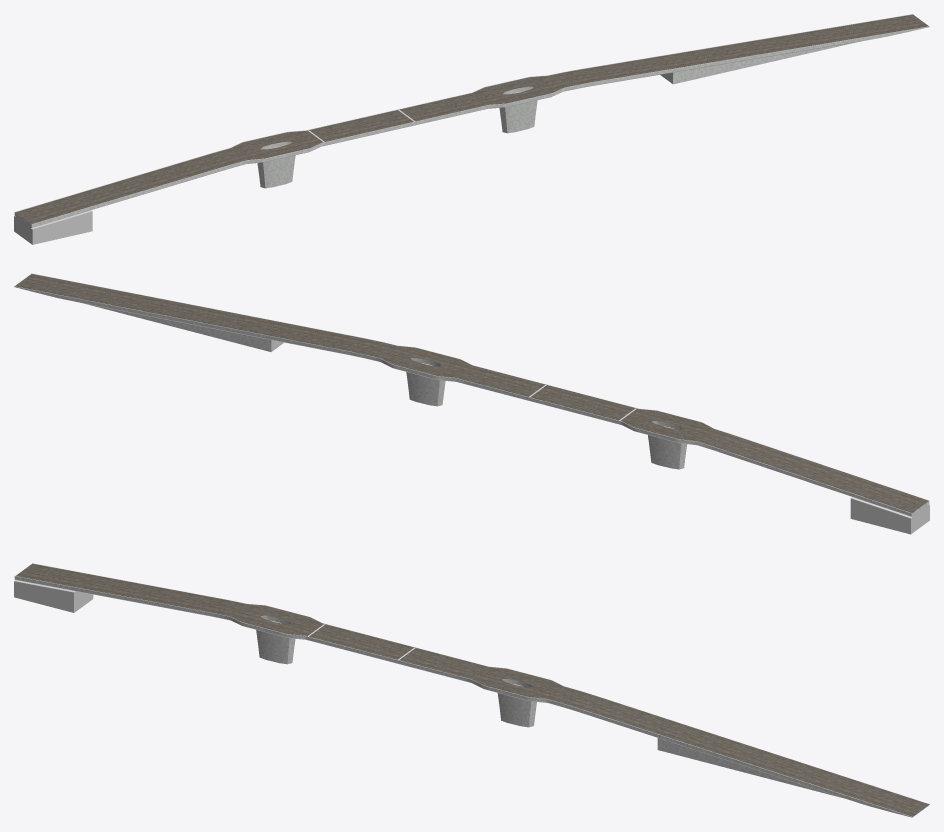
The model's file is SM_Ponte_Impalcato_LOD2.fbx.
3 views of the same model, one above another, from view 1: azimuth 30°, elevation 25°; view 2: azimuth 150°, elevation 25°; view 3: azimuth 330°, elevation 25° (orthographic). The views are drawn at different scales.
Parts seen in each view (by area): view 1: SM_Ponte_Impalcato_LOD2; view 2: SM_Ponte_Impalcato_LOD2; view 3: SM_Ponte_Impalcato_LOD2.
Part boxes in pixels (x1,y1,x2,y2): SM_Ponte_Impalcato_LOD2: (14,14,929,244); SM_Ponte_Impalcato_LOD2: (14,273,929,534); SM_Ponte_Impalcato_LOD2: (14,563,929,817).
Bounding box in the file's own units: 17900 × 1145 × 736.
3 materials, 2 textured.
